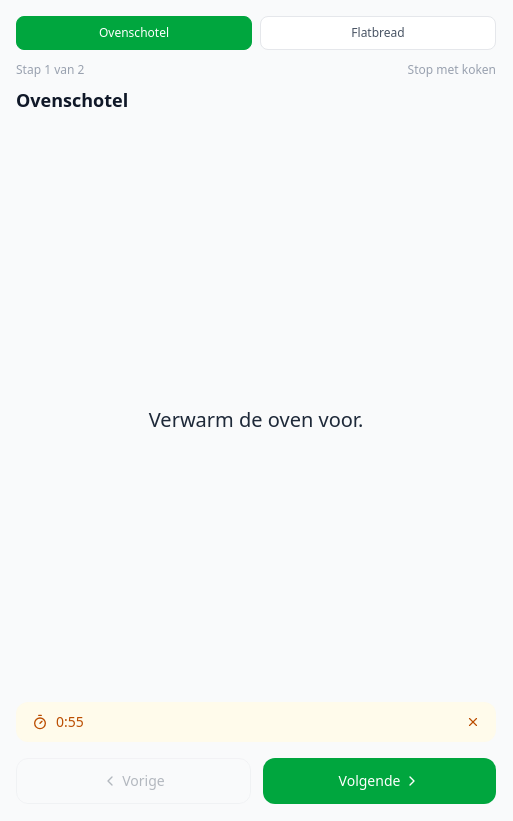
Scenario: CookingMode › clears a running timer when switching to a sibling session that has none of its own
Expected: the button "0:55" is shown, 32,712 -> 84,732
Click the button "Flatbread".
click(378, 33)  # box 260,16 -> 496,50
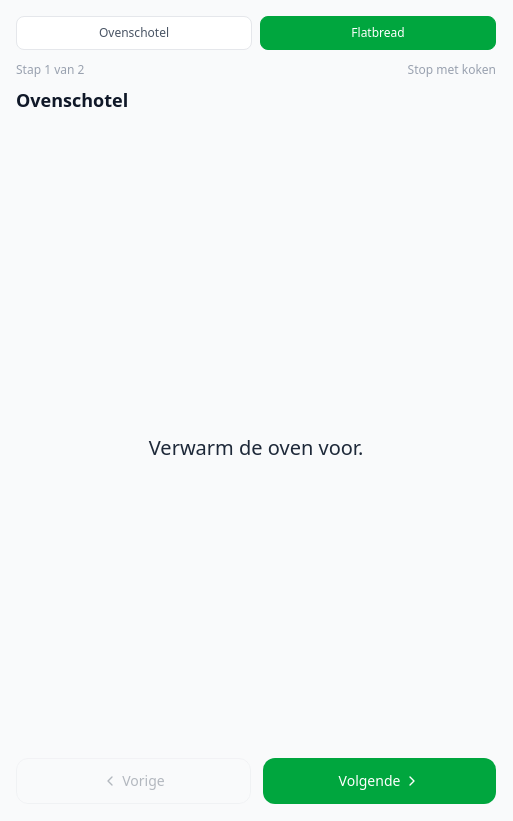
Expected: the button "0:55" is gone
